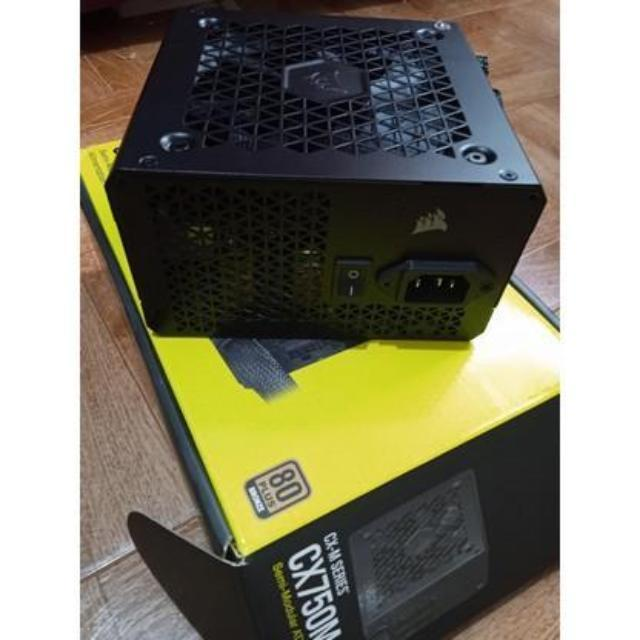PSU: (94, 0, 551, 388)
